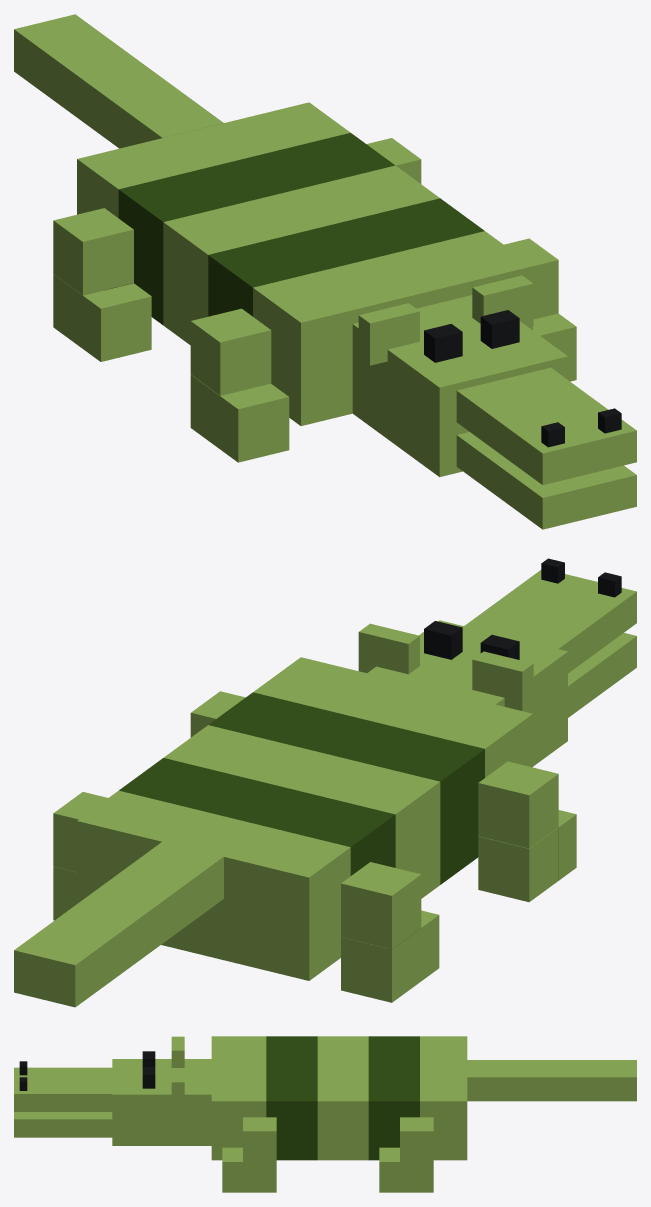
The picture shows the model from 3 angles, top to bottom: view 1: azimuth 30°, elevation 25°; view 2: azimuth 150°, elevation 25°; view 3: azimuth 270°, elevation 25°; orthographic projection. The views are drawn at different scales.
Parts seen in each view (by area): view 1: Crocodille; view 2: Crocodille; view 3: Crocodille.
Part boxes in pixels (left/top/right/bottom): Crocodille: left=14, top=14, right=636, bottom=529; Crocodille: left=14, top=558, right=636, bottom=1007; Crocodille: left=14, top=1036, right=636, bottom=1192.
Bounding box in the file's own units: 1.54 × 0.6526 × 4.29.
1 material, 1 textured.
